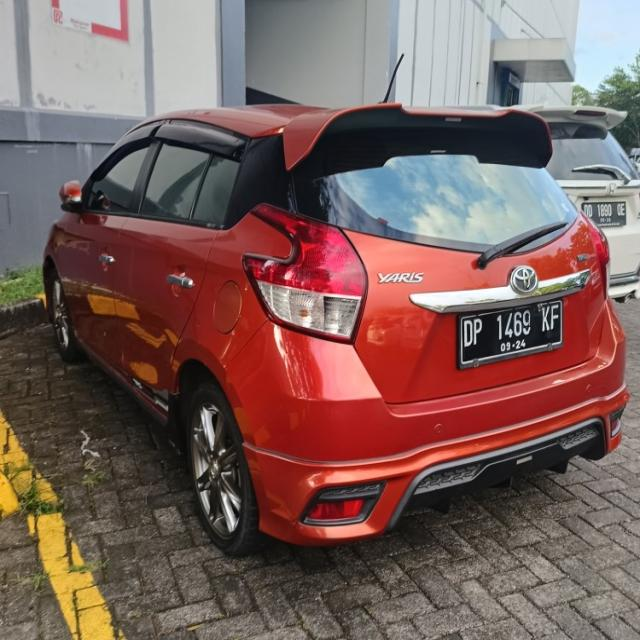plates: (456, 292, 564, 363)
